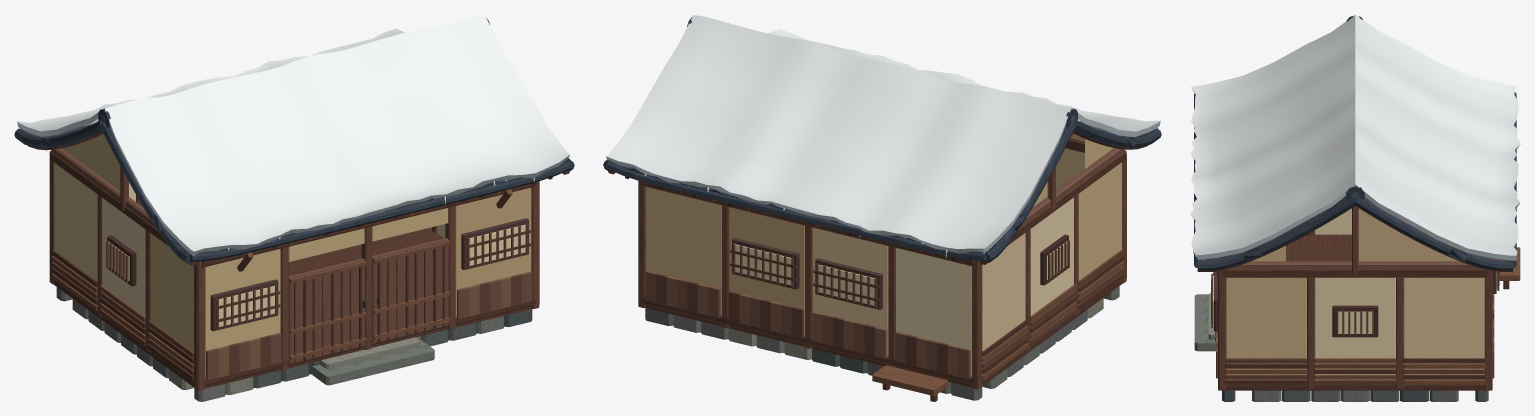
The model's file is snow-inn.glb.
3 views of the same model, side by side, from view 1: azimuth 30°, elevation 25°; view 2: azimuth 150°, elevation 25°; view 3: azimuth 270°, elevation 25° (orthographic). The views are drawn at different scales.
Parts seen in each view (by area): view 1: Thick snowpack with scalloped overhang, uneven surface and b, Plaster, infill and lattice, Timber frame, sill, tongue-and-groove soffit and rafters, Cut stone foundations and steps, Fired roof tiles and ridge caps; view 2: Thick snowpack with scalloped overhang, uneven surface and b, Plaster, infill and lattice, Timber frame, sill, tongue-and-groove soffit and rafters, Fired roof tiles and ridge caps, Cut stone foundations and steps; view 3: Thick snowpack with scalloped overhang, uneven surface and b, Plaster, infill and lattice, Timber frame, sill, tongue-and-groove soffit and rafters, Fired roof tiles and ridge caps, Cut stone foundations and steps.
Part boxes in pixels (left/top/right/bottom): Thick snowpack with scalloped overhang, uneven surface and b: left=17, top=14, right=569, bottom=256; Plaster, infill and lattice: left=51, top=134, right=532, bottom=380; Timber frame, sill, tongue-and-groove soffit and rafters: left=27, top=131, right=569, bottom=390; Cut stone foundations and steps: left=56, top=287, right=532, bottom=401; Fired roof tiles and ridge caps: left=14, top=18, right=574, bottom=263; Thick snowpack with scalloped overhang, uneven surface and b: left=606, top=15, right=1160, bottom=258; Plaster, infill and lattice: left=645, top=134, right=1124, bottom=379; Timber frame, sill, tongue-and-groove soffit and rafters: left=608, top=131, right=1148, bottom=401; Fired roof tiles and ridge caps: left=603, top=17, right=1161, bottom=263; Cut stone foundations and steps: left=645, top=286, right=1119, bottom=400; Thick snowpack with scalloped overhang, uneven surface and b: left=1190, top=14, right=1520, bottom=260; Plaster, infill and lattice: left=1213, top=208, right=1497, bottom=379; Timber frame, sill, tongue-and-groove soffit and rafters: left=1197, top=199, right=1520, bottom=390; Fired roof tiles and ridge caps: left=1194, top=15, right=1516, bottom=270; Cut stone foundations and steps: left=1194, top=293, right=1488, bottom=401.
Bounding box in the file's own units: 9.31 × 5.71 × 7.44.
5 materials, 3 textured.
